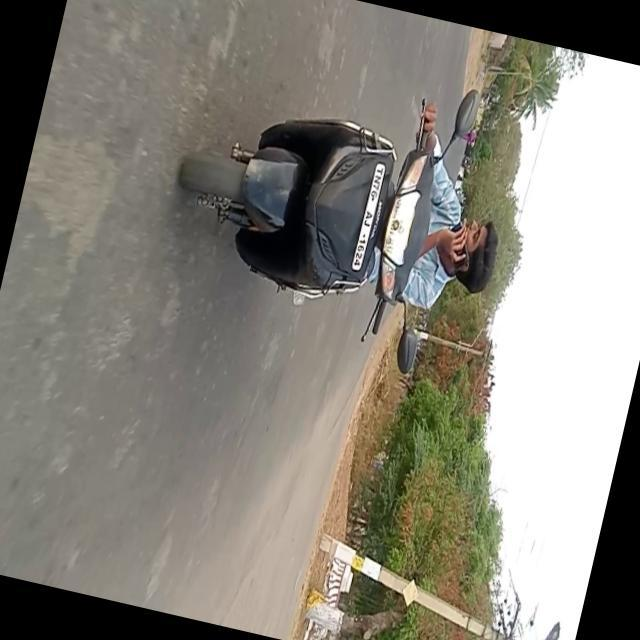USING_MOBILE: (414, 217, 478, 296)
